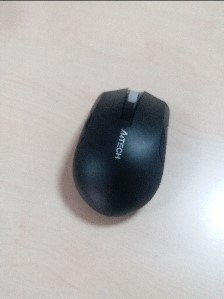mouse: (72, 88, 167, 221)
